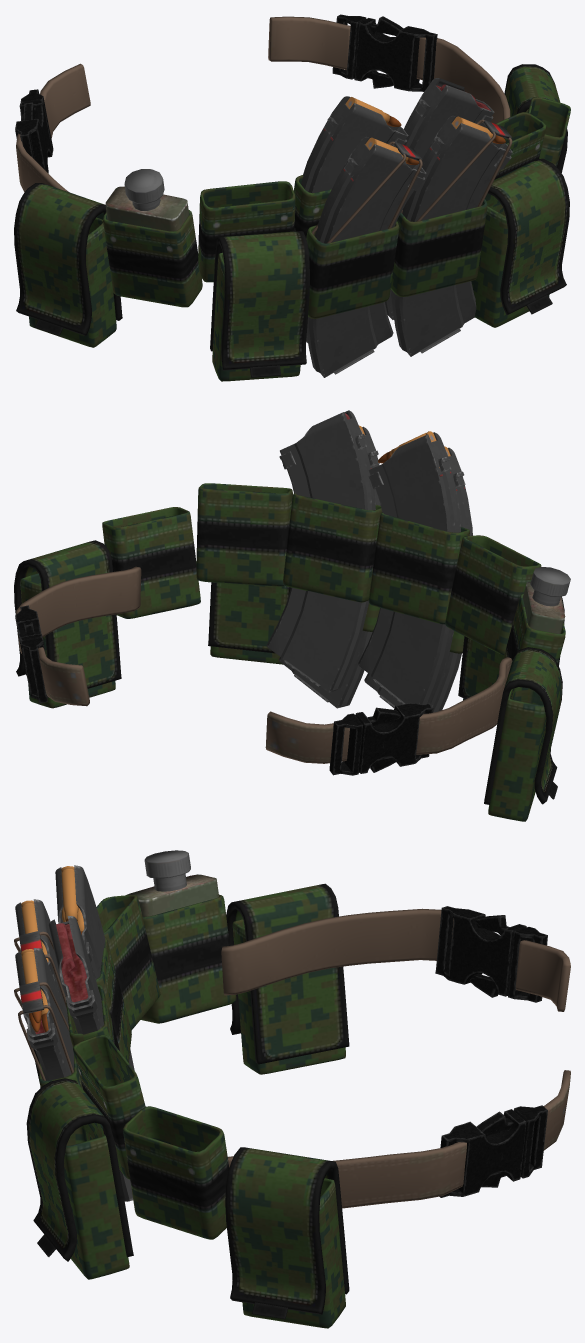
Rendered from underpouch_onli.fbx.
3 views of the same model, one above another, from view 1: azimuth 30°, elevation 25°; view 2: azimuth 150°, elevation 25°; view 3: azimuth 270°, elevation 25° (orthographic). The views are drawn at different scales.
Visible parts, largest first — view 1: underpouch_onli; view 2: underpouch_onli; view 3: underpouch_onli.
Part boxes in pixels (<box>): underpouch_onli: <box>14,14,570,381</box>; underpouch_onli: <box>14,410,570,821</box>; underpouch_onli: <box>14,850,570,1328</box>.
Bounding box in the file's own units: 0.3497 × 0.175 × 0.2692.
